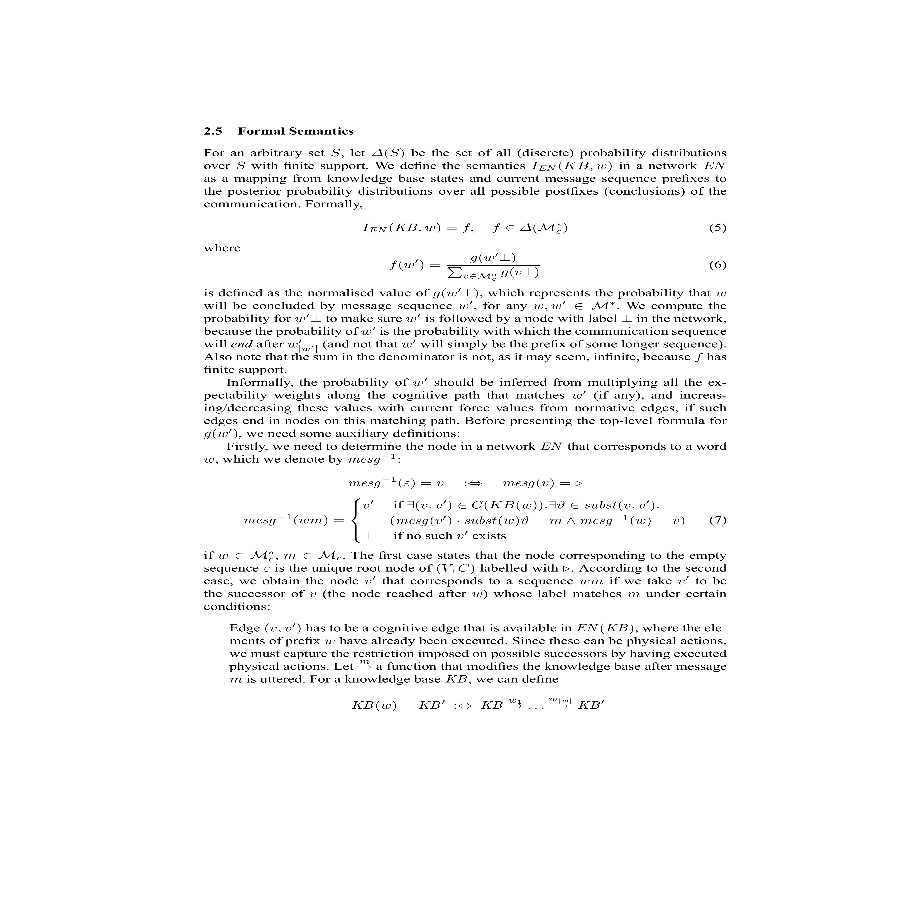eq: (242, 497, 694, 545), (348, 690, 607, 721), (387, 249, 546, 284), (360, 216, 572, 241), (347, 473, 586, 488)
